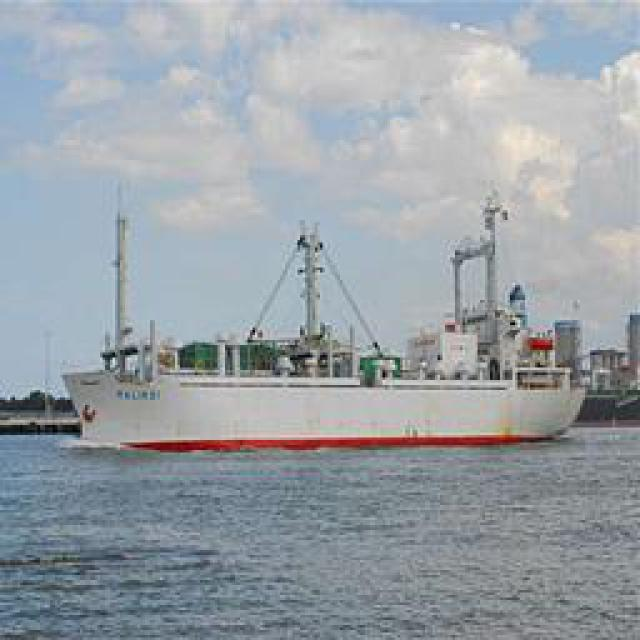Ship: (42, 200, 600, 453)
